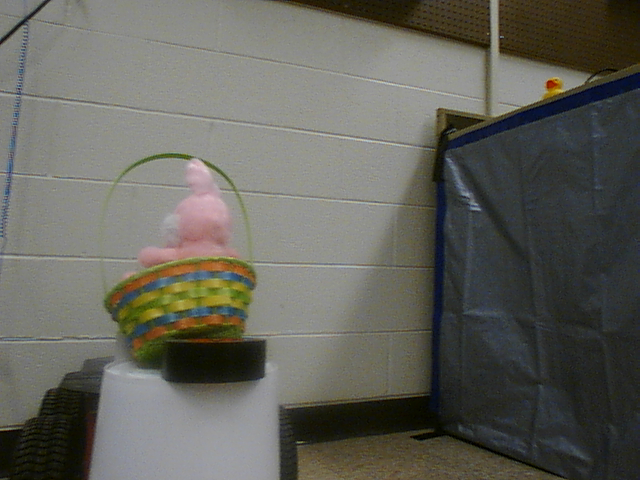bunny: (92, 149, 259, 359)
